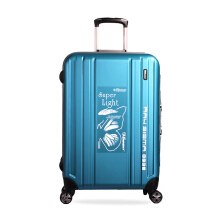luggage: (58, 17, 165, 203)
